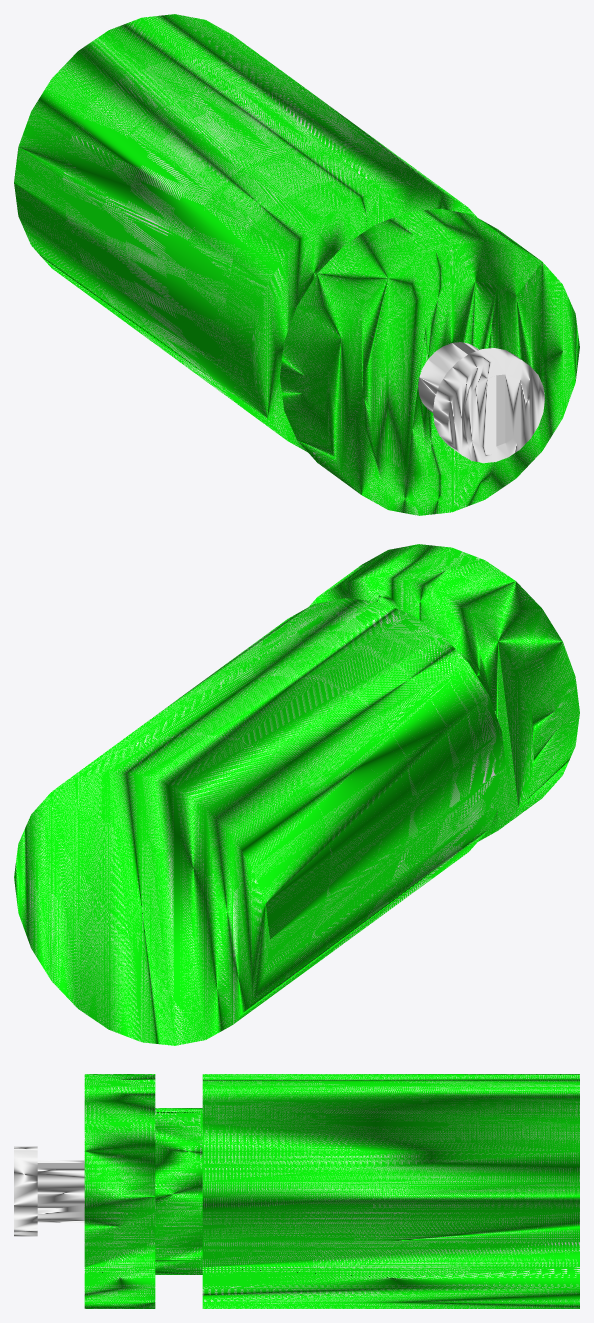
The model's file is model_align.obj.
3 renders of one model, top to bottom at view 1: azimuth 30°, elevation 25°; view 2: azimuth 150°, elevation 25°; view 3: azimuth 270°, elevation 25°, orthographic. The views are drawn at different scales.
Bounding box in the file's own units: 0.0624 × 0.0624 × 0.1498.
